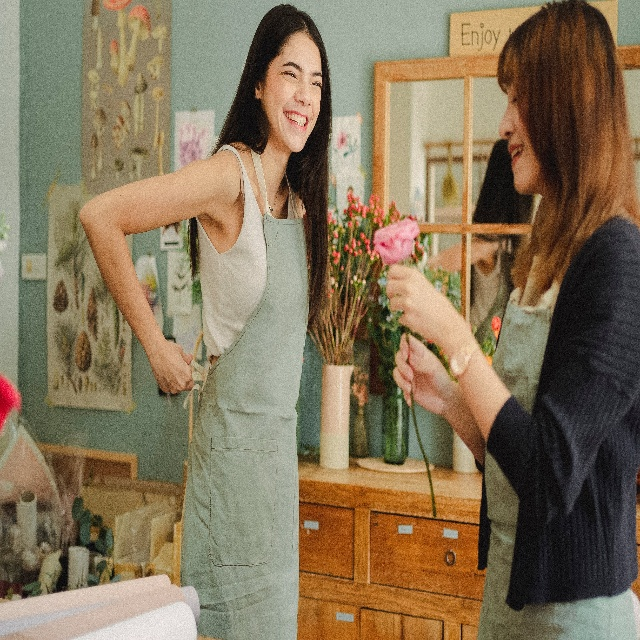Sin_guantes: (387, 263, 453, 348), (393, 329, 446, 415), (156, 329, 192, 395)
